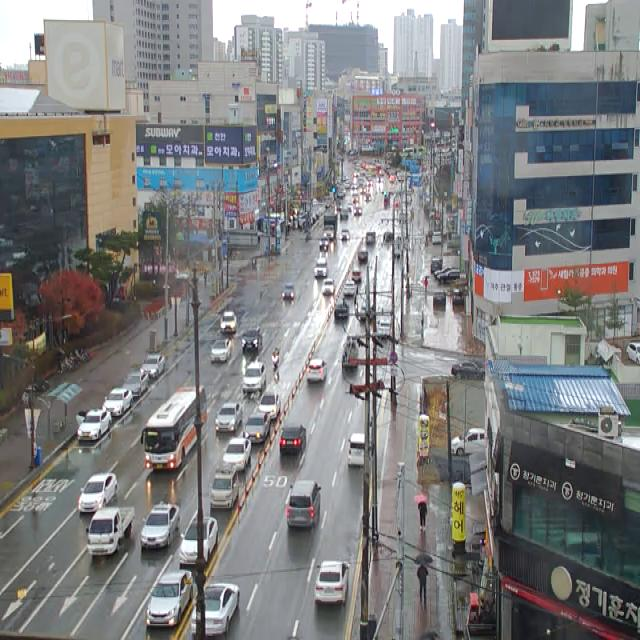Bus: (140, 386, 208, 472)
Car: (146, 570, 193, 626), (192, 583, 240, 636), (140, 501, 180, 548), (180, 517, 218, 564), (286, 481, 321, 528), (78, 474, 118, 513), (316, 561, 350, 604), (210, 470, 239, 510), (76, 409, 112, 441), (222, 438, 252, 470), (451, 428, 485, 455), (102, 388, 132, 417), (243, 413, 270, 443), (280, 424, 306, 453), (216, 403, 242, 432), (243, 362, 266, 393), (122, 372, 148, 397), (140, 354, 166, 378), (451, 362, 485, 379), (306, 359, 328, 383), (259, 394, 280, 419), (348, 433, 364, 465), (211, 339, 231, 364), (342, 341, 358, 368), (242, 330, 262, 351), (220, 311, 237, 333), (437, 269, 460, 284), (334, 299, 350, 320), (314, 258, 328, 278), (627, 343, 640, 364), (434, 267, 456, 279), (343, 281, 358, 297), (322, 278, 336, 295), (378, 320, 392, 336), (433, 289, 446, 306), (282, 283, 295, 300), (453, 290, 464, 306), (431, 259, 442, 273), (358, 248, 368, 263), (352, 269, 362, 283), (432, 232, 442, 245), (340, 229, 350, 242), (366, 232, 376, 245), (319, 238, 328, 252), (354, 207, 362, 216)
Motorcycle: (270, 345, 282, 374)
Truck: (86, 508, 135, 557), (323, 213, 338, 240)
